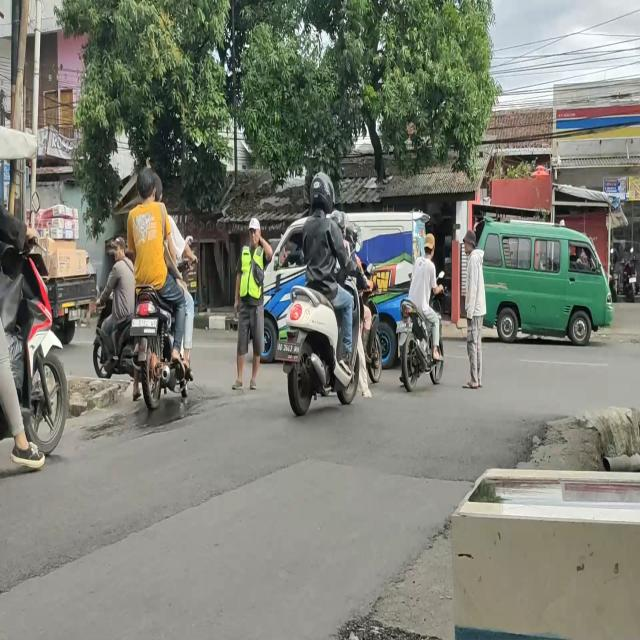helmet: (311, 172, 337, 214), (347, 223, 361, 248), (333, 209, 348, 231)
no-helmet: (136, 169, 155, 198), (153, 171, 163, 204), (113, 239, 126, 260), (424, 236, 434, 258)
